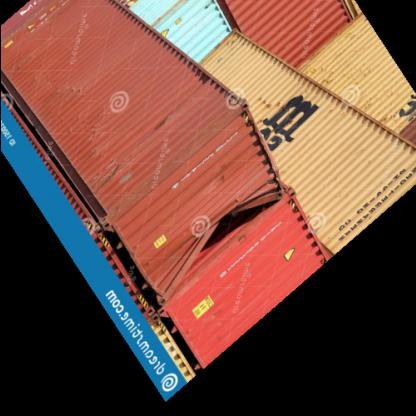Damage: (195, 181, 274, 270)
